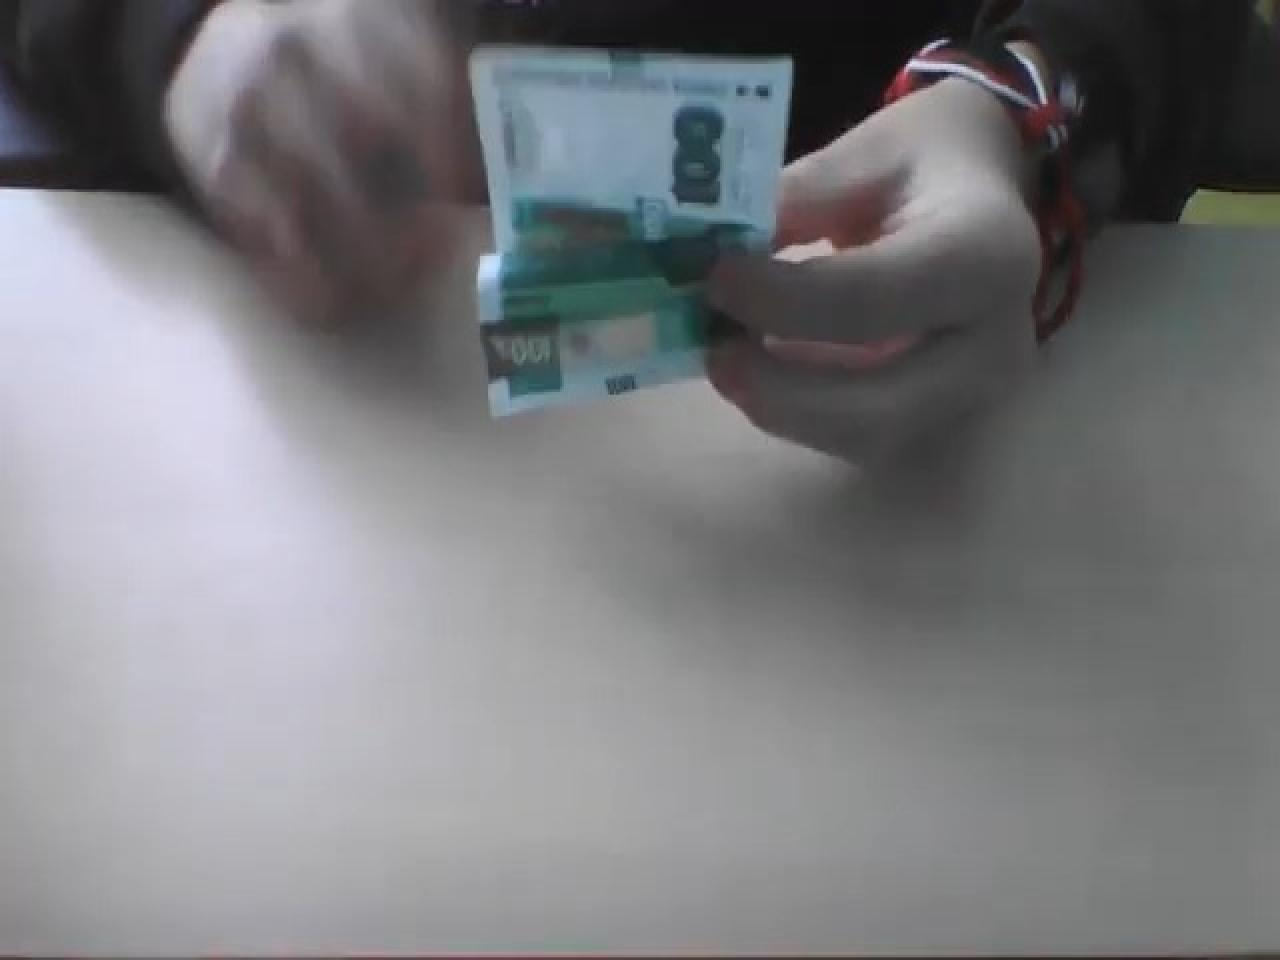100leva: (464, 40, 794, 418)
